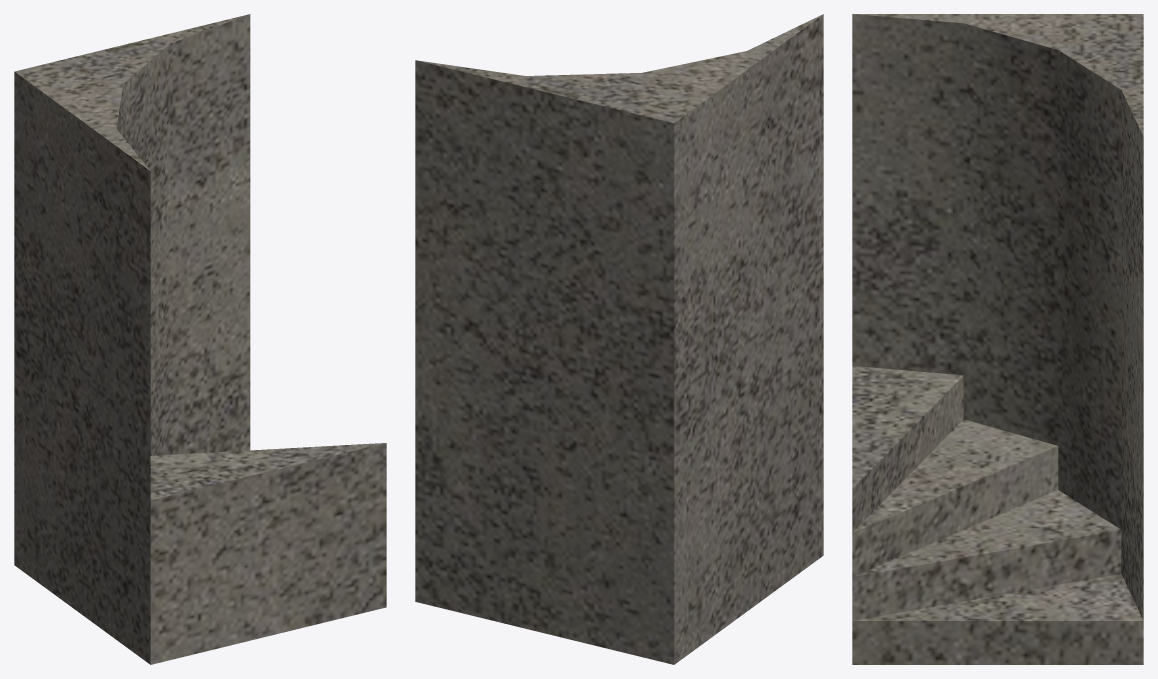
The model's file is WG_SpiralStairsR1mA.obj.
3 renders of one model, left to right at view 1: azimuth 30°, elevation 25°; view 2: azimuth 150°, elevation 25°; view 3: azimuth 270°, elevation 25°, orthographic. The views are drawn at different scales.
Parts seen in each view (by area): view 1: object 2, unnamed_object1; view 2: object 2; view 3: object 2, unnamed_object1.
Part boxes in pixels (<box>): object 2: <box>14,14,250,664</box>; unnamed_object1: <box>150,443,386,664</box>; object 2: <box>415,14,823,664</box>; object 2: <box>852,14,1143,620</box>; unnamed_object1: <box>852,366,1143,664</box>.
Bounding box in the file's own units: 1 × 2 × 1.
Materials: 1 (1 with a texture image).
